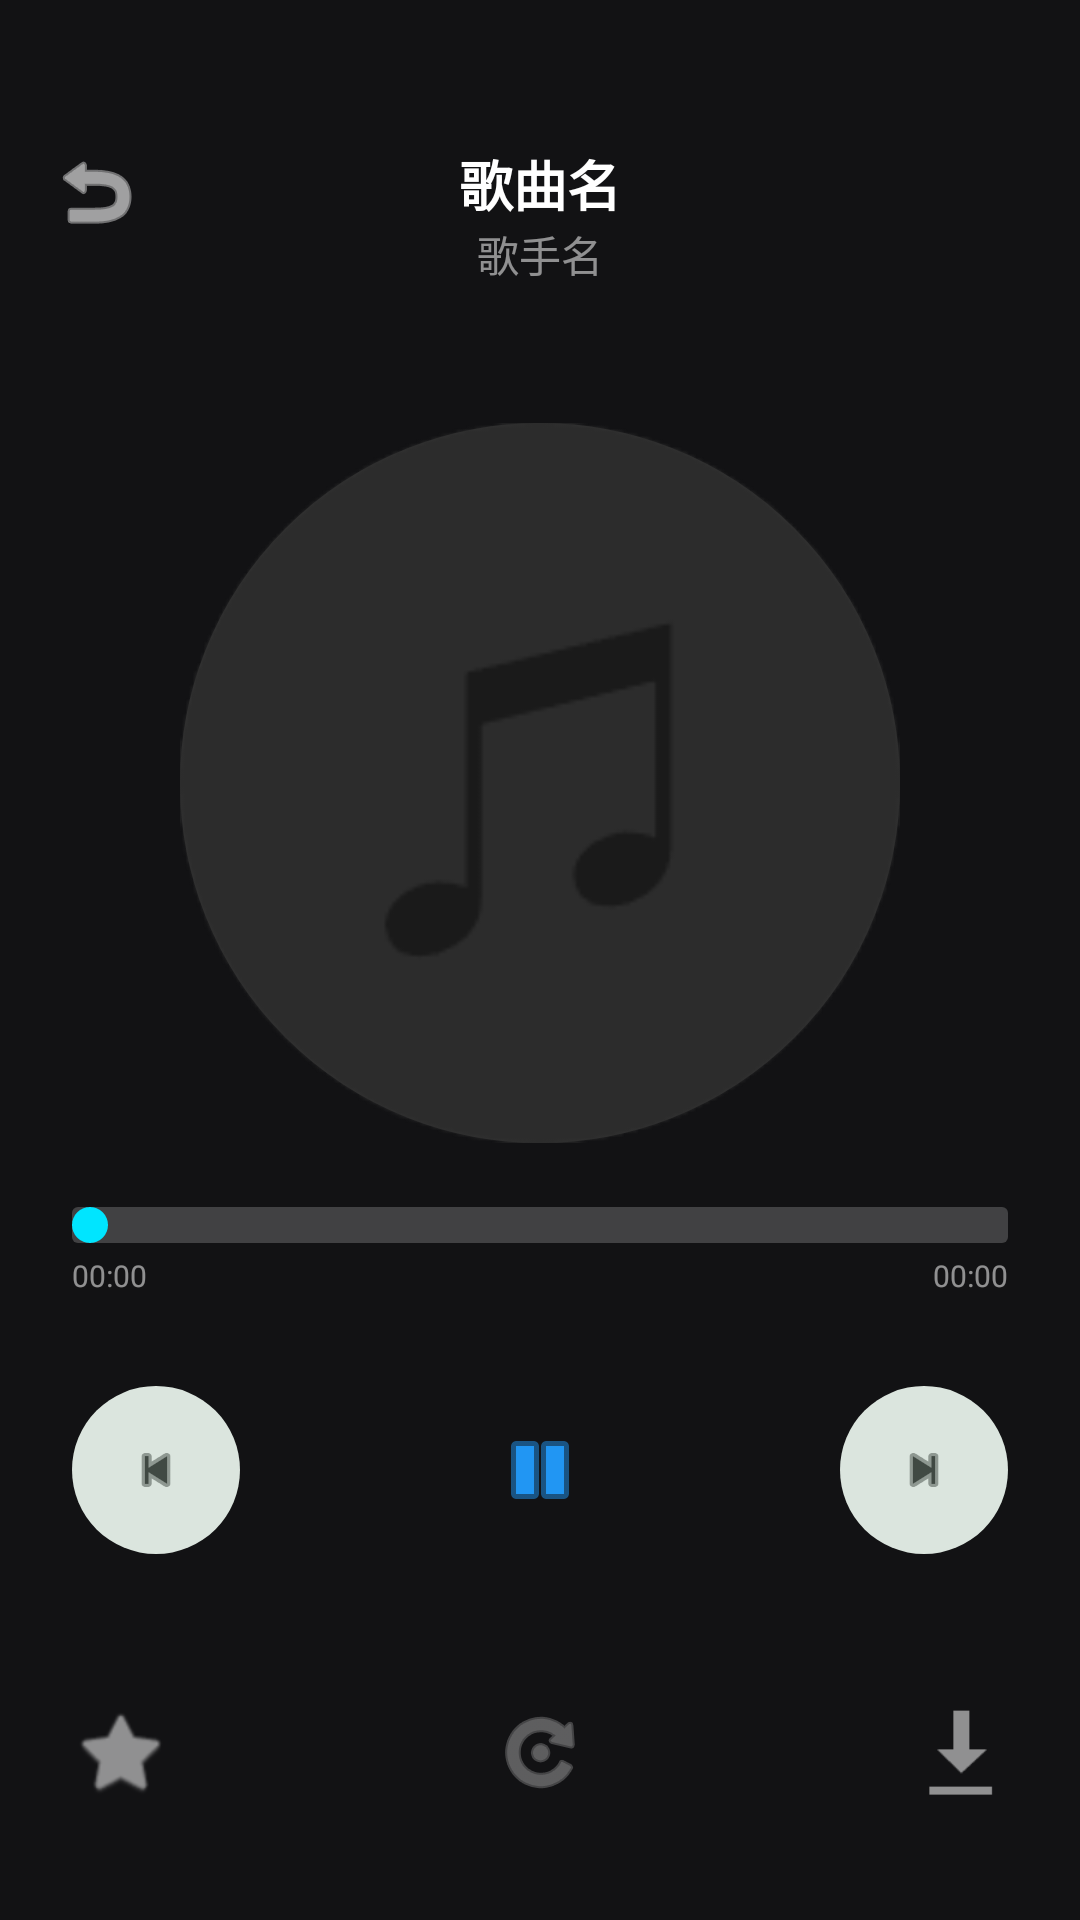

Point at icon controls on the screen. Image size 1080*1920, points as [x,y].
download: [960,1752]
next: [924,1470]
pause: [540,1470]
previous: [156,1470]
revert: [97,192]
rotate: [540,1752]
star off: [121,1752]
